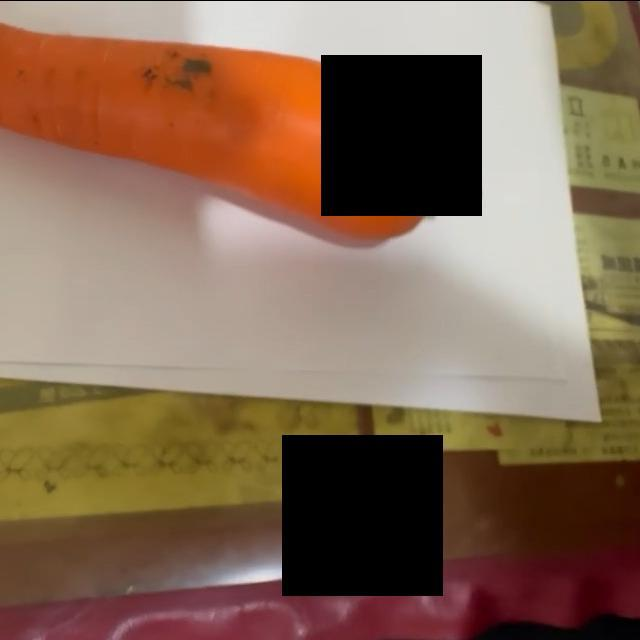carrot: (1, 9, 486, 243)
